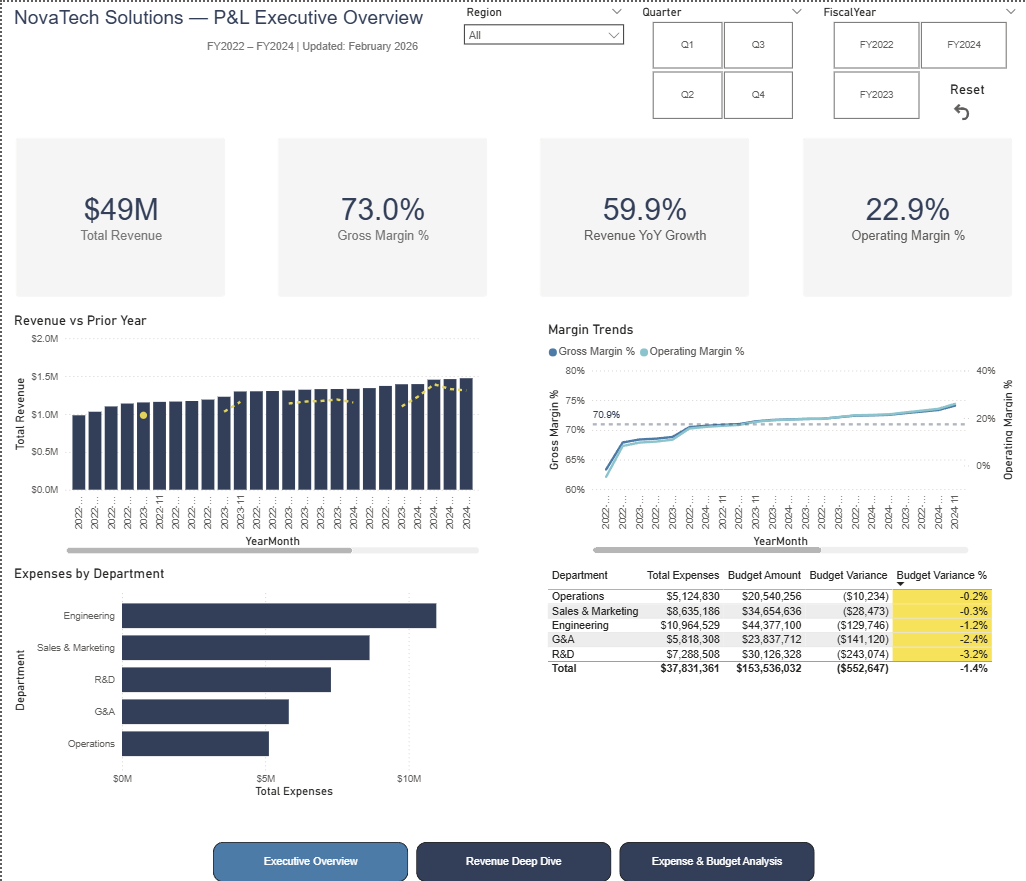

The dashboard page shown, as its layout file describes it:
{"tool":"powerbi","page":{"name":"Executive Overview","canvas":[1280,1100],"ordinal":0},"visuals":[{"type":"textbox","box":[10,0,543.8,42.5],"z":0},{"type":"textbox","box":[251.2,42.5,302.5,25],"z":1000},{"type":"slicer","fields":{"Values":["DateTable.FiscalYear"]},"box":[1013.8,0,266.2,152.5],"z":2000},{"type":"slicer","fields":{"Values":["Revenue.Region"]},"box":[567.5,0,220,76.2],"z":3000},{"type":"slicer","fields":{"Values":["DateTable.Quarter"]},"box":[787.5,0,225,152.5],"z":4000},{"type":"cardVisual","fields":{"Data":["_Measures.Revenue YoY Growth"]},"box":[655.4,152.5,296.2,233.8],"z":5000},{"type":"cardVisual","fields":{"Data":["_Measures.Operating Margin %"]},"box":[983.3,152.5,296.2,233.8],"z":6000},{"type":"cardVisual","fields":{"Data":["_Measures.Gross Margin %"]},"box":[327.5,152.5,296.2,233.8],"z":7000},{"type":"cardVisual","fields":{"Data":["_Measures.Total Revenue"]},"box":[0,152.5,296.2,233.8],"z":8000},{"type":"lineClusteredColumnComboChart","title":"Revenue vs Prior Year","fields":{"Category":["DateTable.YearMonth"],"Y":["_Measures.Total Revenue"],"Y2":["_Measures.Revenue PY"]},"box":[10,387.1,591.4,307.1],"z":9000},{"type":"lineChart","title":"Margin Trends","fields":{"Category":["DateTable.YearMonth"],"Y":["_Measures.Gross Margin %"],"Y2":["_Measures.Operating Margin %"]},"box":[677.1,398.6,591.4,295.7],"z":10000},{"type":"clusteredBarChart","title":"Expenses by Department","fields":{"Category":["Expenses.Department"],"Y":["_Measures.Total Expenses"]},"box":[10,704,591,296],"z":11000},{"type":"tableEx","fields":{"Values":["Expenses.Department","_Measures.Total Expenses","_Measures.Budget Amount","_Measures.Budget Variance","_Measures.Budget Variance %"]},"box":[676.7,703.3,591.7,183.3],"z":12000},{"type":"pageNavigator","box":[263.3,1050,753.3,50],"z":12001},{"type":"actionButton","title":"Reset","box":[1185,98.3,71.7,53.3],"z":12002}]}

Visuals, with their boxes in screenshot pixels (x1, y1, x2, y2), scaled from the page's 1280x1100 canvas onto the 1026x881 screenshot:
textbox: region(8, 0, 444, 34)
textbox: region(201, 34, 444, 54)
slicer - DateTable.FiscalYear: region(813, 0, 1025, 122)
slicer - Revenue.Region: region(455, 0, 631, 61)
slicer - DateTable.Quarter: region(631, 0, 812, 122)
cardVisual - _Measures.Revenue YoY Growth: region(525, 122, 763, 309)
cardVisual - _Measures.Operating Margin %: region(788, 122, 1025, 309)
cardVisual - _Measures.Gross Margin %: region(263, 122, 500, 309)
cardVisual - _Measures.Total Revenue: region(0, 122, 237, 309)
"Revenue vs Prior Year" lineClusteredColumnComboChart: region(8, 310, 482, 556)
"Margin Trends" lineChart: region(543, 319, 1017, 556)
"Expenses by Department" clusteredBarChart: region(8, 564, 482, 801)
tableEx - Expenses.Department x _Measures.Total Expenses: region(542, 563, 1017, 710)
pageNavigator: region(211, 841, 815, 880)
"Reset" actionButton: region(950, 79, 1007, 121)
